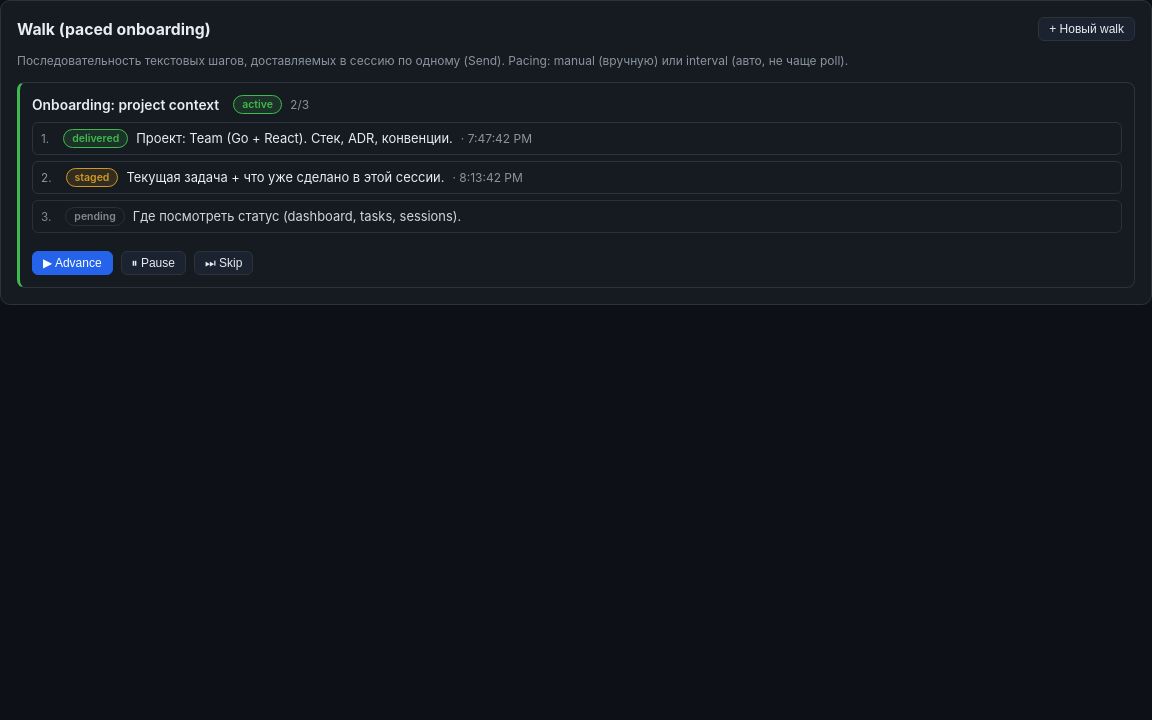
Test: P3.14: walk (paced onboarding) › advance retained ([retain]) → step retained + walk paused + Resume
Expected: the element with test id "walk-item" is shown, [17,82,1135,288]
Click the button "+ Новый walk" at [1087, 29], box [1038,17,1135,41]
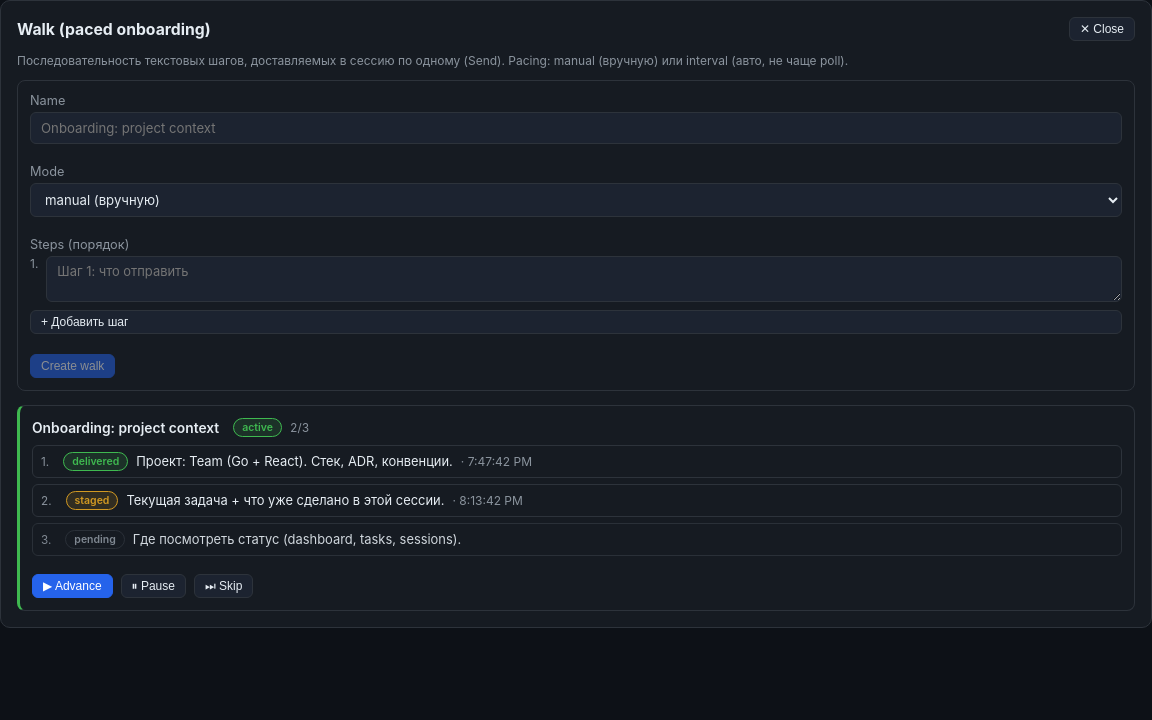
Type "retain-walk" into the field named "Walk name" at [576, 128], box [30,112,1122,144]
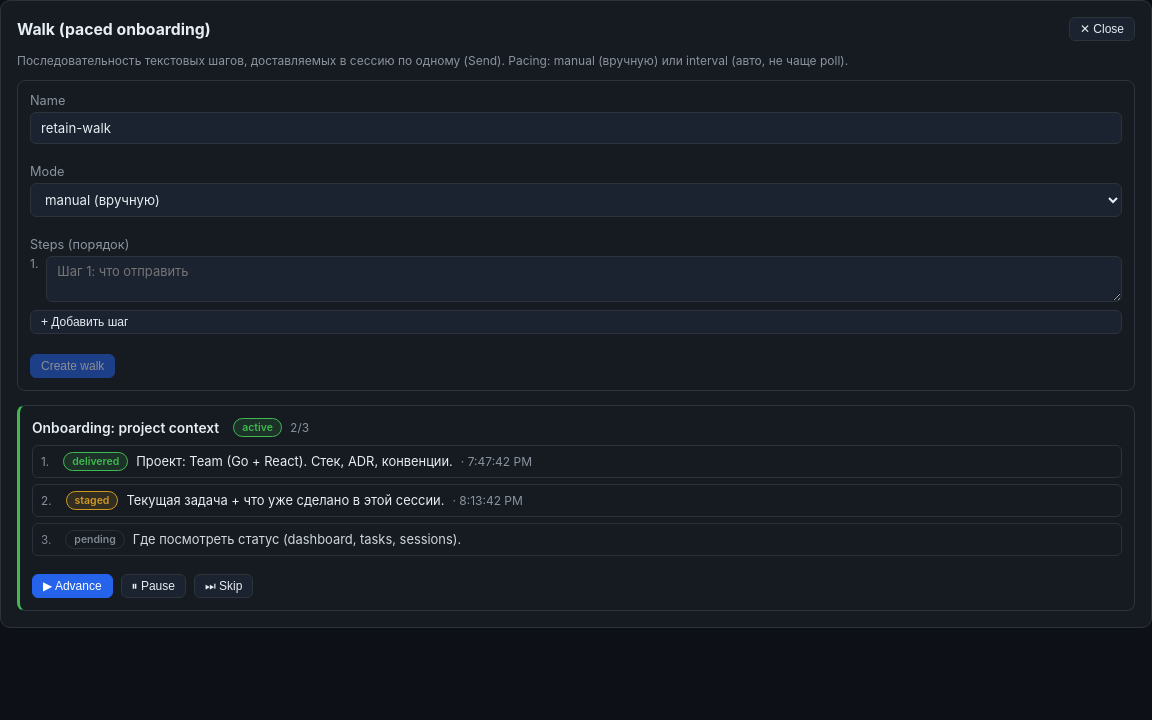
Type "[retain] do you want to proceed? (y/n)" into the text box with placeholder "Шаг 1: что отправить" at [584, 279], box [46,256,1122,302]
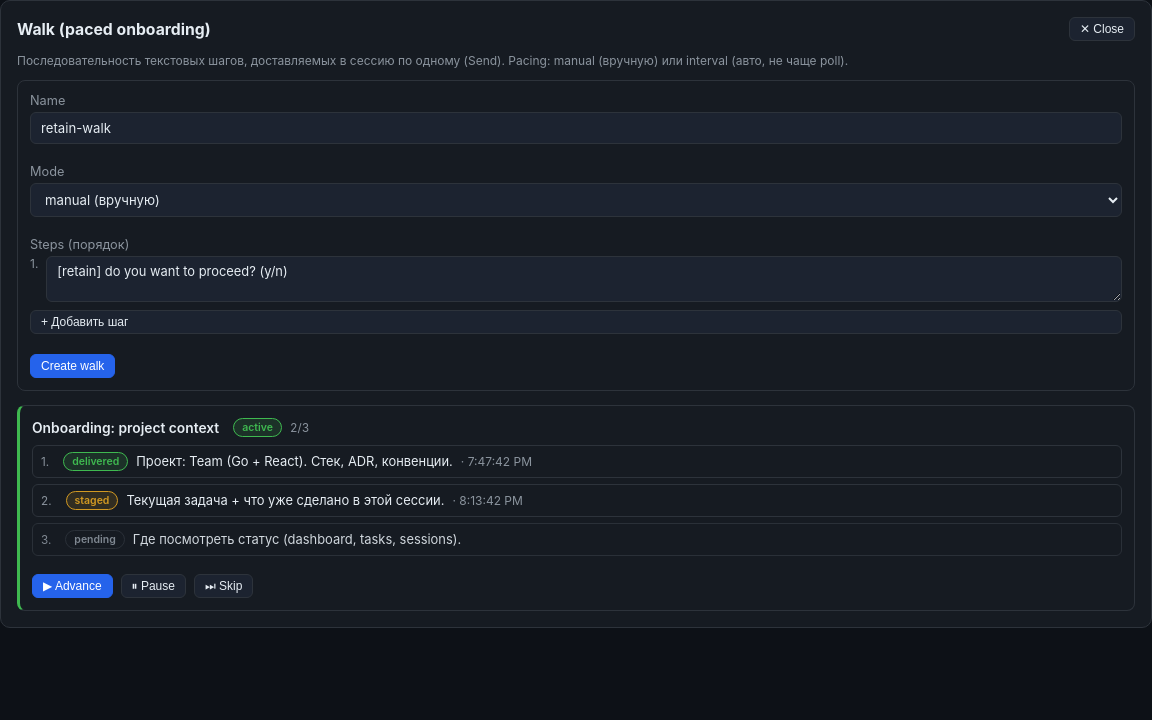
Click the button "Create walk" at [73, 366], box [30,354,115,378]
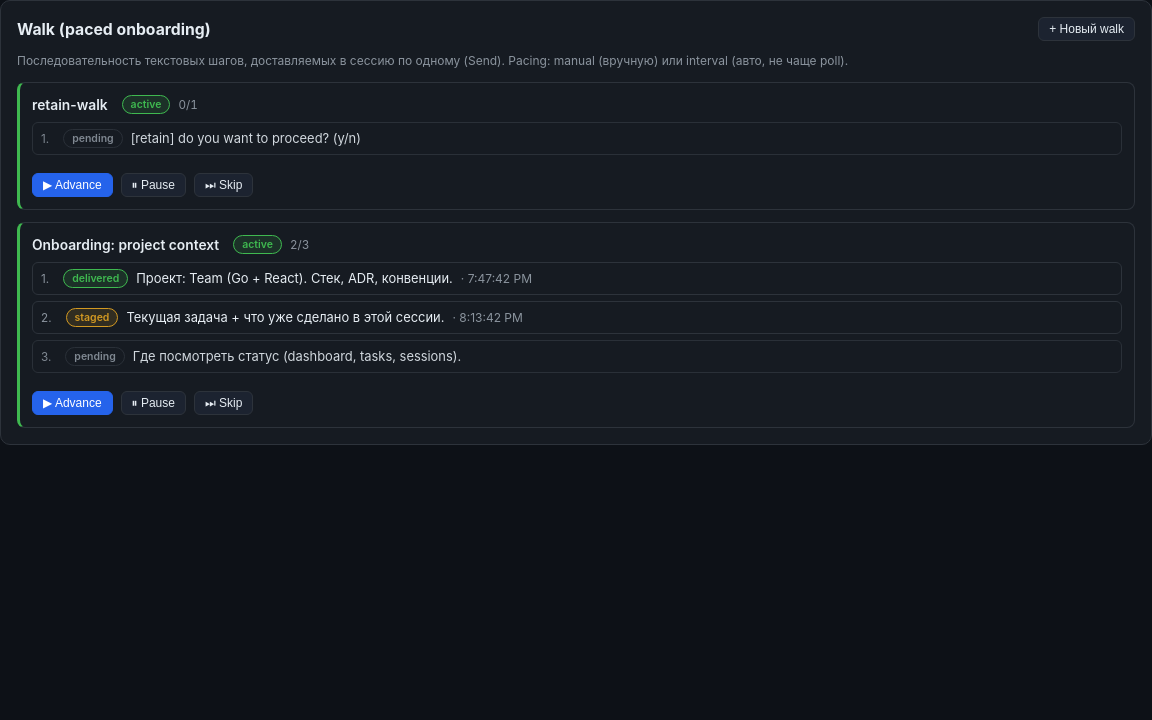
advance на новый (retain-walk) → retained → paused.
Click the button "▶ Advance" below "[retain] do you want to proceed? (y/n)" at [72, 185], box [32,173,113,197]
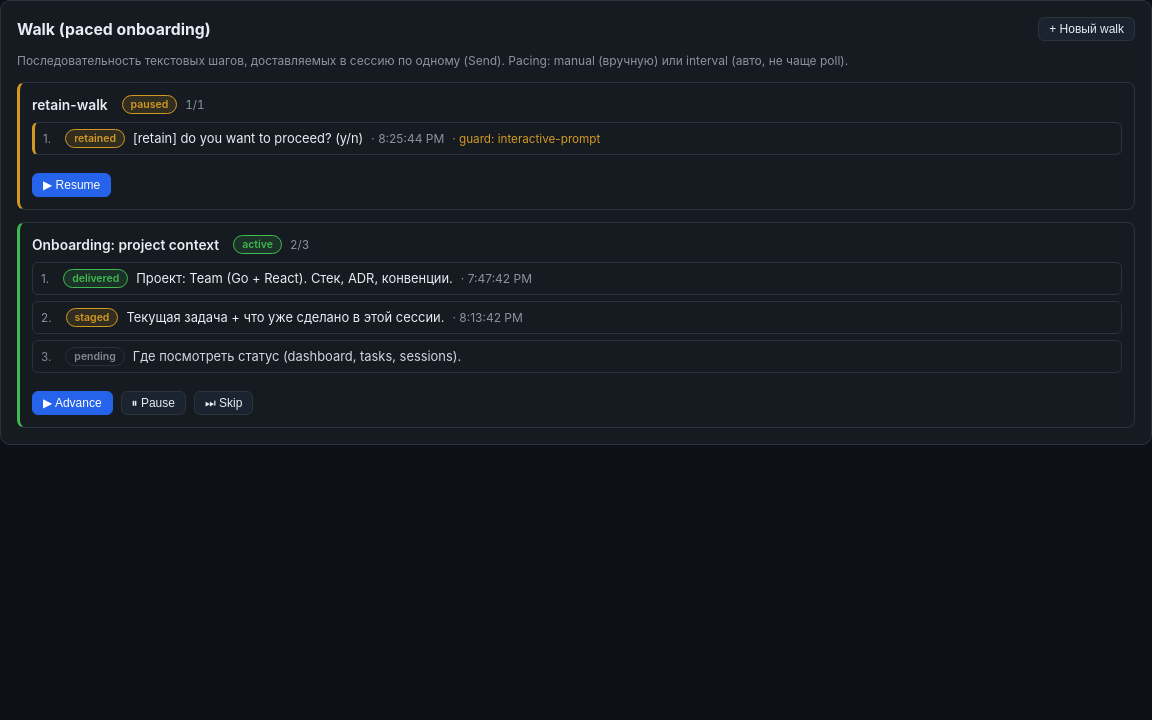
Result: the text "retained" is shown at [65,129,125,148]
Result: the text "paused" is shown at [122,95,177,114]
Result: the button "▶ Resume" is shown at [32,173,111,197]
